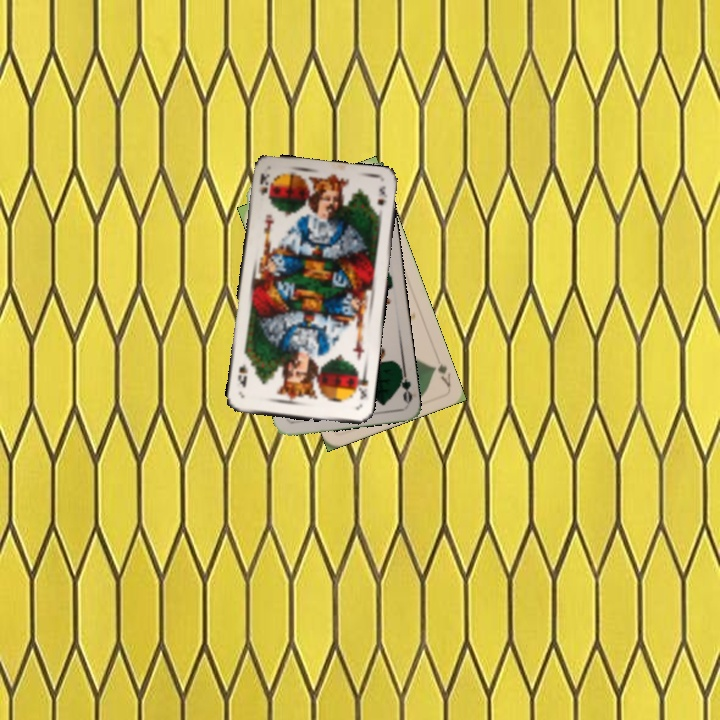GA: (428, 360, 453, 389)
GO: (394, 364, 415, 405)
SK: (351, 368, 370, 402), (255, 169, 272, 202)
